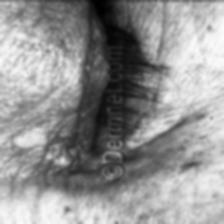Unclassified: (134, 102, 182, 176), (16, 120, 68, 176), (77, 158, 102, 190)
